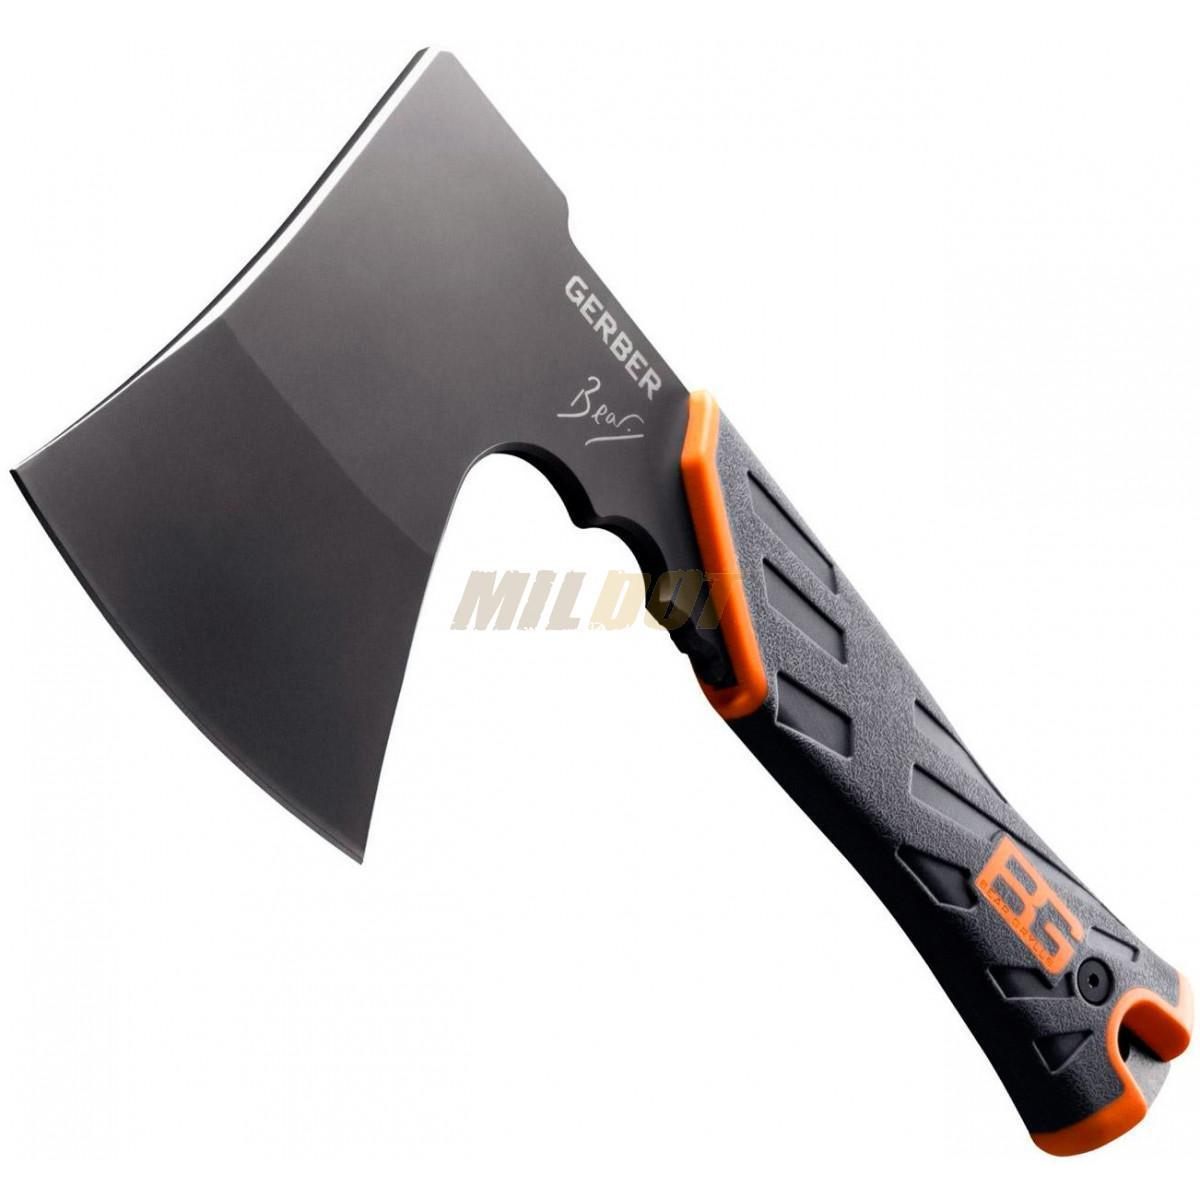machado: (11, 51, 1192, 1155)
